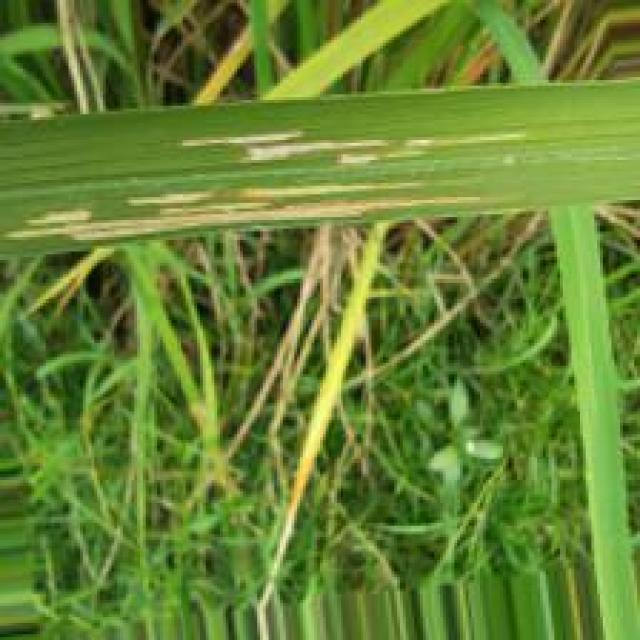Rice_Hispa: (19, 180, 483, 243), (250, 140, 393, 167), (193, 135, 299, 146)
